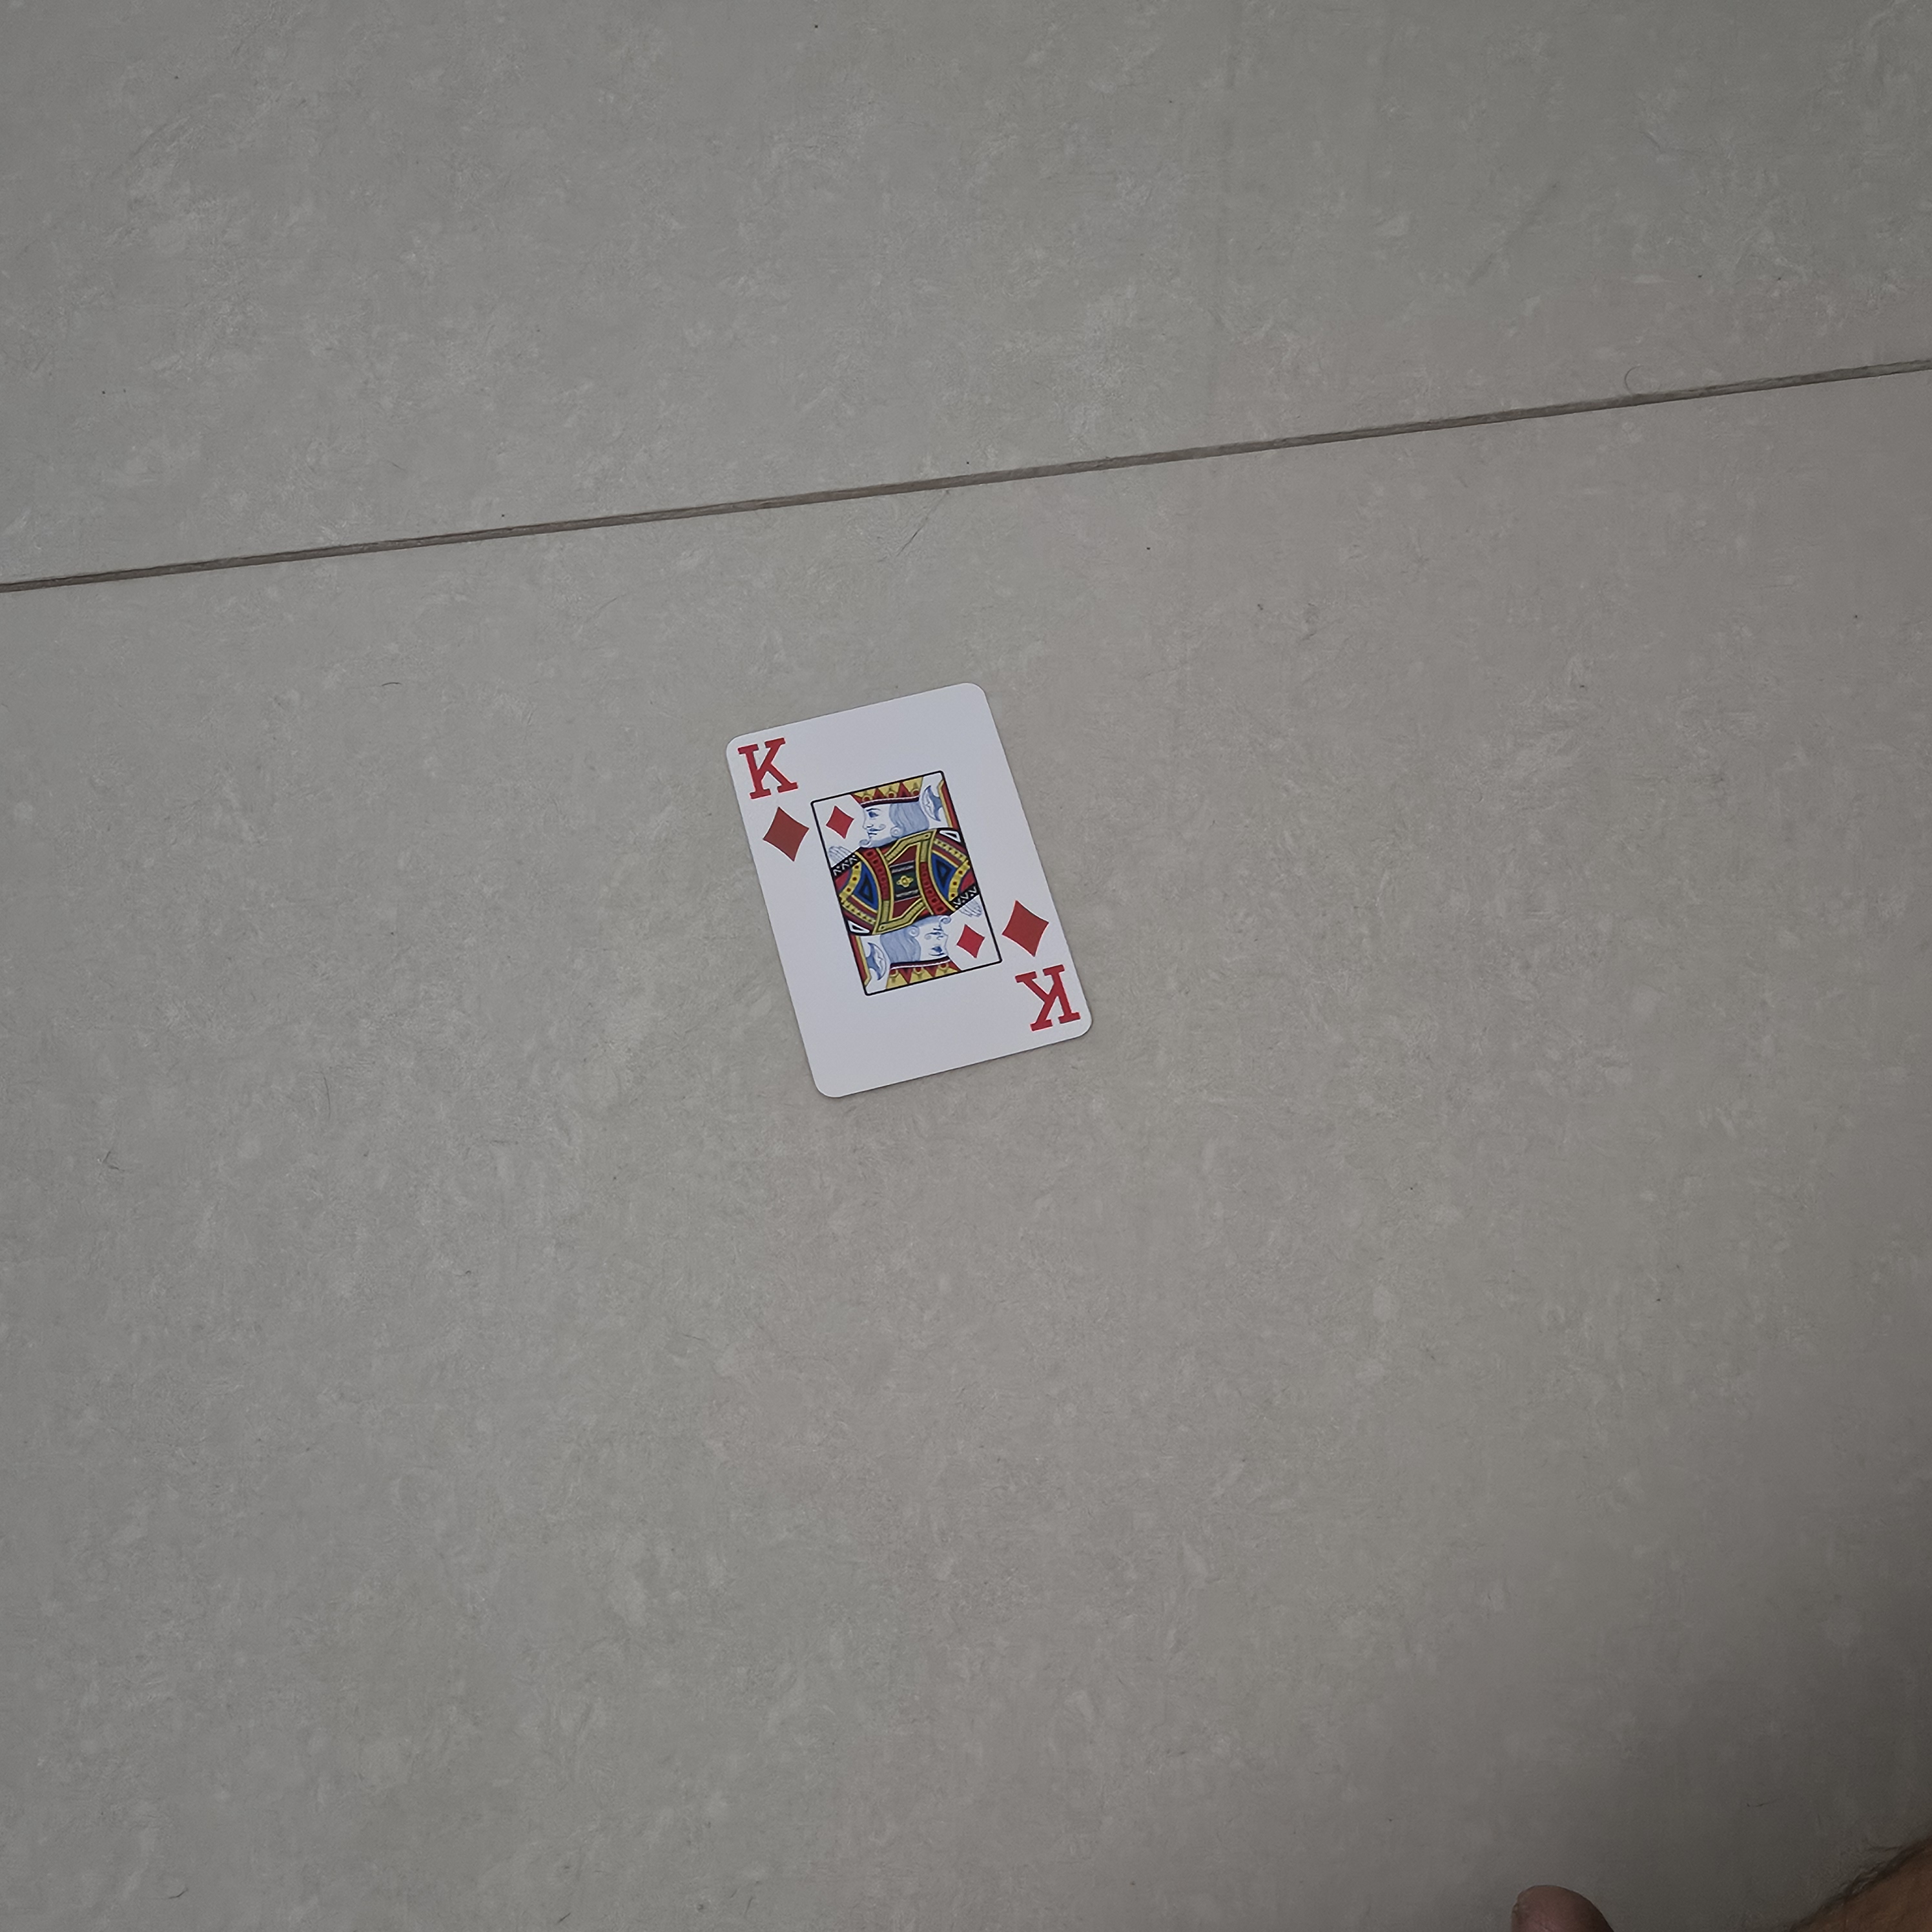KO: (993, 893, 1092, 1039), (727, 729, 821, 872)
